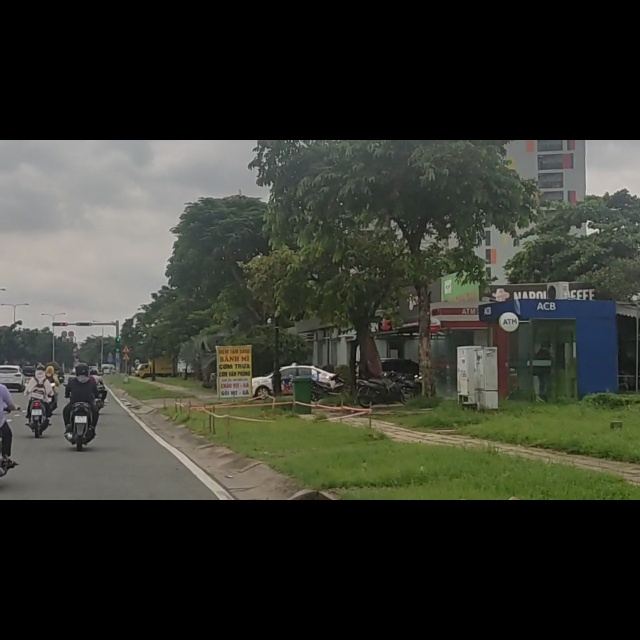Giao nhau với đường không ưu tiên: (122, 346, 130, 352)
Đường người đi bộ sang đường: (122, 354, 130, 360)
